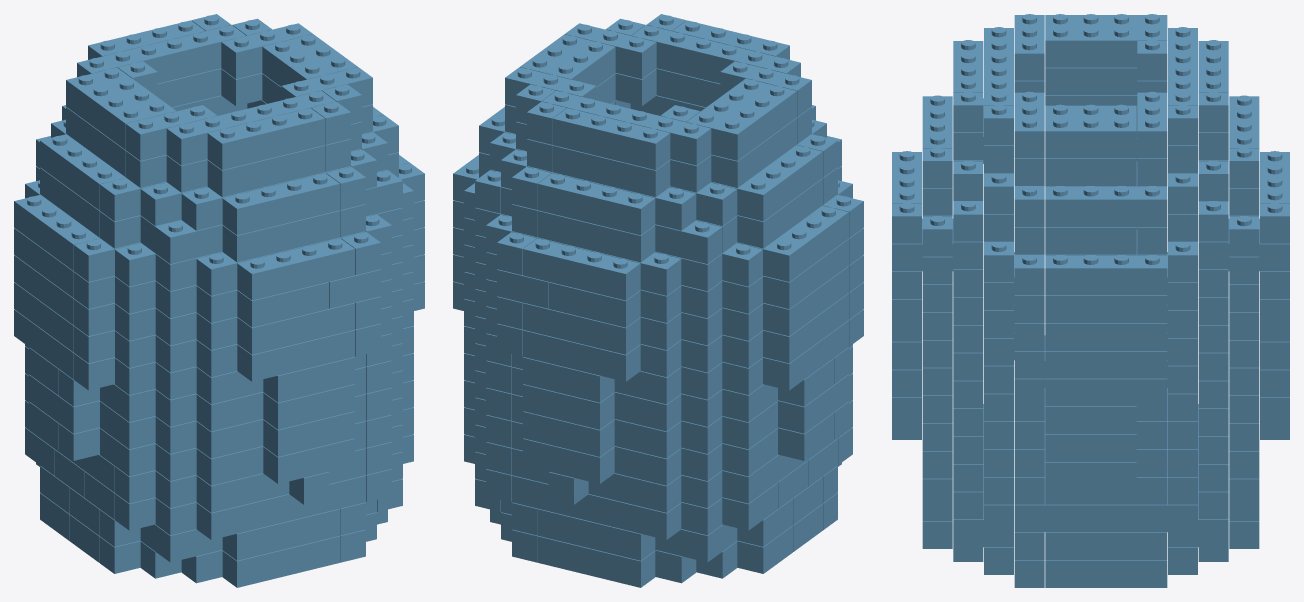
The model's file is brickmore__bowl-L5-C1__raw.glb.
3 views of the same model, side by side, from view 1: azimuth 30°, elevation 25°; view 2: azimuth 150°, elevation 25°; view 3: azimuth 270°, elevation 25° (orthographic). The views are drawn at different scales.
Bounding box in the file's own units: 12.98 × 16.13 × 12.98.
